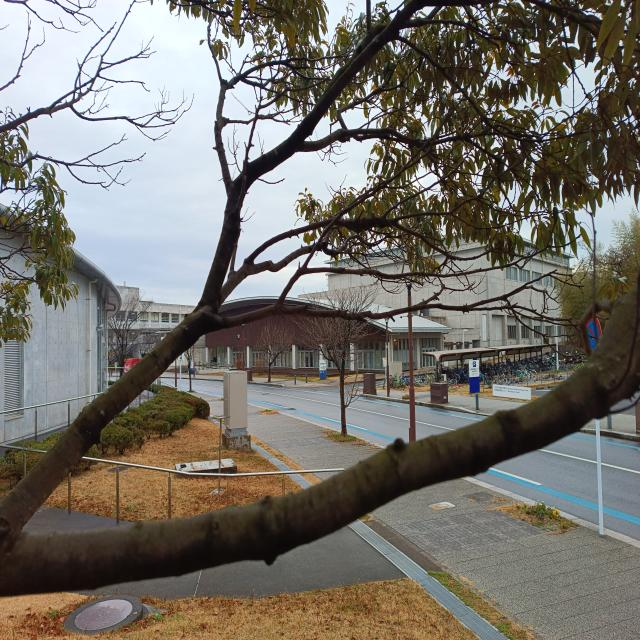Branch: (0, 277, 640, 595), (0, 307, 221, 560), (199, 180, 246, 312), (235, 125, 305, 193), (220, 301, 284, 327), (223, 256, 255, 301)
Twig: (302, 0, 496, 137), (250, 218, 334, 260), (283, 300, 426, 321), (214, 80, 231, 193), (255, 244, 316, 274), (227, 60, 288, 89), (345, 129, 426, 147), (207, 12, 222, 82), (279, 265, 307, 301), (306, 128, 348, 151), (288, 64, 331, 80), (288, 51, 349, 61)
